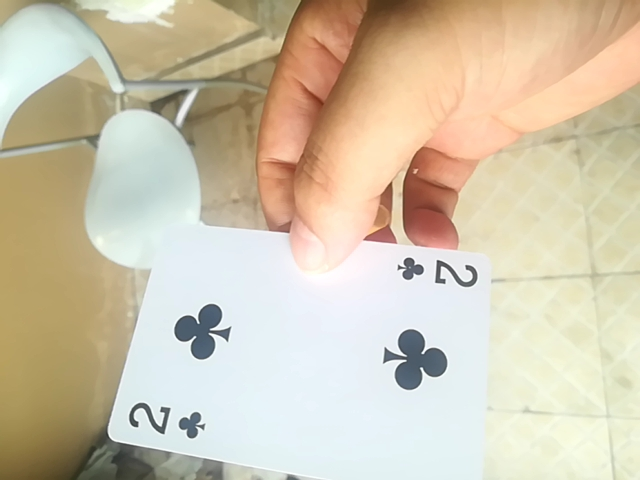mh 2: (105, 217, 495, 480)
